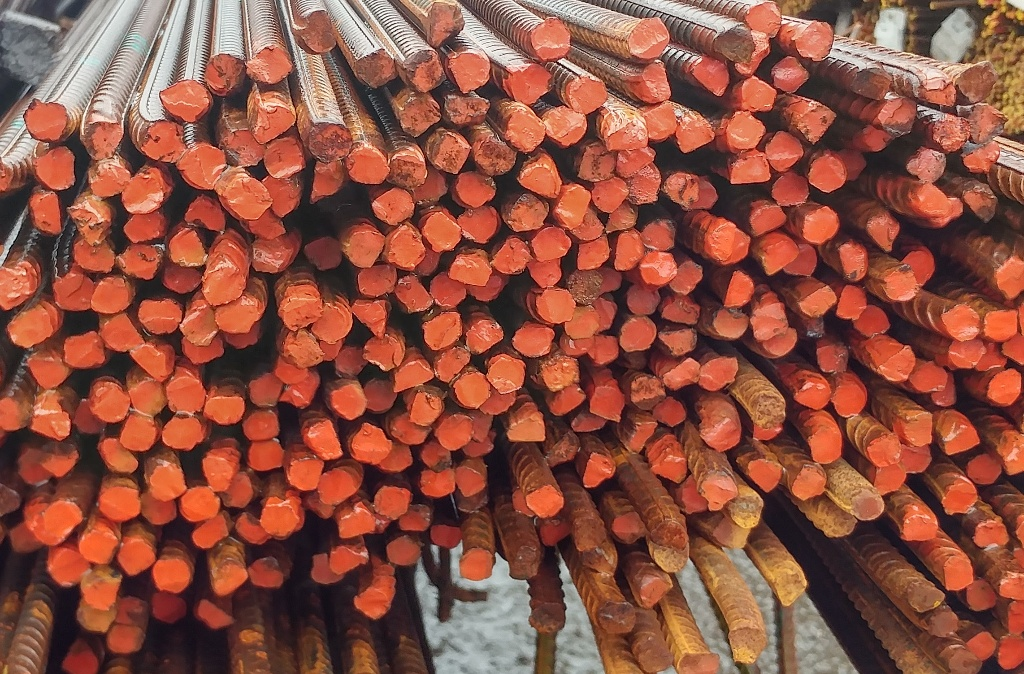dipstick: (692, 396, 747, 451), (216, 168, 274, 220), (275, 279, 324, 330), (952, 56, 1002, 105), (502, 63, 557, 107), (652, 518, 694, 575), (67, 196, 119, 242), (800, 443, 903, 466), (644, 434, 690, 484), (445, 46, 491, 96), (5, 303, 56, 348), (704, 220, 752, 267), (29, 144, 79, 189), (177, 145, 227, 190), (294, 9, 340, 57), (157, 81, 212, 121), (244, 44, 297, 85), (934, 410, 981, 456), (501, 109, 548, 155), (395, 93, 444, 137), (351, 47, 400, 91), (300, 418, 350, 461), (627, 61, 678, 103), (424, 131, 472, 175), (30, 392, 73, 441), (770, 559, 813, 608), (528, 16, 573, 62), (81, 115, 126, 160), (52, 266, 96, 312), (216, 291, 262, 335), (516, 155, 562, 199), (724, 620, 767, 667), (503, 191, 551, 233), (310, 157, 351, 206), (114, 241, 163, 282), (470, 136, 519, 177), (384, 222, 424, 272), (845, 61, 895, 101), (200, 53, 245, 97), (307, 118, 352, 162), (754, 232, 798, 277), (794, 100, 838, 145), (626, 16, 669, 62), (599, 109, 651, 147), (965, 104, 1014, 144), (161, 413, 211, 452), (96, 313, 147, 351), (144, 118, 187, 163), (126, 374, 171, 417), (87, 379, 132, 422), (259, 496, 304, 539), (404, 50, 447, 95), (85, 156, 131, 198), (342, 225, 384, 271), (97, 480, 143, 522), (542, 105, 589, 146), (24, 98, 68, 141), (805, 150, 848, 194), (203, 261, 245, 306), (348, 425, 393, 467), (369, 187, 420, 224), (440, 91, 491, 128), (121, 173, 167, 214), (675, 107, 716, 153), (261, 171, 301, 218), (129, 343, 176, 383), (180, 194, 228, 233), (24, 353, 76, 389), (36, 438, 84, 477), (145, 457, 188, 500), (573, 141, 618, 182), (791, 21, 836, 62), (877, 97, 922, 138), (252, 101, 298, 141), (222, 129, 268, 169), (565, 73, 611, 113), (721, 110, 767, 150), (349, 145, 391, 188), (325, 379, 368, 421), (424, 2, 466, 45), (792, 369, 833, 413), (762, 129, 806, 170), (180, 303, 220, 348), (696, 468, 741, 508), (855, 208, 900, 248), (553, 185, 593, 230), (446, 247, 492, 286), (62, 330, 109, 368), (722, 150, 773, 185), (118, 211, 172, 244), (420, 210, 462, 252), (769, 55, 811, 97), (264, 138, 307, 179), (804, 422, 845, 465), (870, 344, 913, 385), (348, 299, 392, 339), (527, 601, 572, 640), (69, 236, 115, 274), (361, 335, 407, 373), (897, 576, 944, 613), (54, 638, 102, 674), (798, 203, 840, 244), (711, 22, 753, 63), (138, 297, 182, 336), (150, 557, 194, 596), (448, 368, 487, 412), (750, 296, 789, 340), (450, 172, 499, 207), (279, 330, 324, 368), (96, 436, 141, 474), (669, 475, 714, 513), (318, 465, 364, 502), (511, 320, 557, 357), (167, 226, 208, 267), (1, 262, 36, 310), (311, 303, 351, 345), (617, 314, 659, 354), (393, 274, 435, 314), (91, 275, 134, 314), (983, 366, 1022, 409), (24, 192, 62, 236), (420, 312, 465, 349), (456, 207, 501, 244), (903, 184, 955, 216), (46, 548, 92, 584), (736, 30, 772, 76), (656, 323, 703, 358), (279, 369, 319, 410), (373, 480, 413, 521), (940, 302, 981, 342), (490, 236, 532, 275), (739, 1, 782, 39), (69, 598, 117, 632), (742, 454, 782, 494), (79, 523, 118, 564), (80, 570, 121, 609), (879, 264, 920, 303), (834, 234, 868, 281), (790, 462, 828, 504), (637, 215, 679, 253), (304, 230, 341, 273), (248, 550, 288, 589), (387, 150, 427, 189), (410, 166, 449, 206), (931, 112, 970, 152), (250, 235, 291, 273), (747, 196, 788, 234), (211, 557, 248, 599), (700, 356, 742, 393), (960, 181, 997, 223), (181, 336, 231, 367), (612, 229, 648, 272), (692, 55, 728, 98), (710, 306, 754, 341), (769, 172, 813, 207), (487, 355, 526, 394), (167, 377, 205, 417), (661, 356, 701, 394), (900, 507, 940, 545), (940, 476, 980, 514), (565, 267, 605, 305), (660, 169, 700, 207), (737, 75, 777, 113), (195, 598, 241, 631), (327, 542, 373, 575), (139, 490, 180, 527), (352, 585, 394, 621), (903, 247, 938, 290), (960, 141, 1003, 176), (756, 328, 800, 362), (189, 515, 234, 548), (120, 415, 158, 454), (221, 471, 259, 510), (620, 414, 658, 453), (833, 378, 870, 418), (940, 553, 977, 593), (534, 287, 574, 324), (908, 146, 948, 183), (16, 447, 52, 488), (523, 483, 564, 519), (354, 265, 400, 297), (162, 259, 204, 294), (966, 452, 1008, 487), (795, 282, 837, 317), (539, 355, 582, 389), (532, 227, 571, 264), (336, 503, 376, 539), (387, 412, 432, 444), (582, 450, 618, 490), (634, 636, 674, 672), (847, 486, 887, 522), (428, 272, 468, 308), (623, 167, 663, 203), (628, 374, 669, 409), (907, 357, 948, 392), (676, 640, 718, 674), (392, 360, 435, 393), (915, 75, 958, 108), (241, 409, 285, 441), (244, 440, 288, 472), (21, 505, 58, 543), (117, 536, 154, 574), (248, 370, 284, 409), (71, 396, 107, 435), (813, 337, 852, 373), (633, 571, 673, 606), (749, 388, 784, 428), (659, 293, 704, 324), (306, 552, 347, 586), (285, 458, 326, 492), (598, 601, 639, 635), (711, 515, 752, 549), (247, 209, 290, 241), (944, 339, 987, 371), (590, 386, 627, 423), (898, 410, 935, 447), (201, 454, 237, 492), (466, 317, 505, 352), (382, 534, 426, 565), (644, 102, 678, 142), (722, 268, 755, 309), (994, 253, 1024, 298), (203, 393, 245, 425), (181, 486, 218, 522), (436, 413, 472, 450), (684, 174, 721, 210), (639, 251, 677, 286), (577, 234, 612, 272), (234, 511, 273, 545), (331, 347, 371, 380), (996, 428, 1024, 475), (222, 321, 267, 350), (938, 645, 983, 674), (589, 333, 625, 369), (564, 303, 600, 339), (379, 439, 416, 474), (410, 389, 445, 426), (510, 545, 545, 582), (652, 396, 689, 431), (615, 144, 652, 179), (544, 431, 582, 465), (591, 179, 629, 213), (549, 384, 588, 417), (854, 306, 894, 338), (106, 623, 148, 653), (148, 591, 190, 621), (506, 412, 548, 442), (611, 511, 645, 548), (782, 244, 819, 278), (432, 347, 470, 380), (835, 282, 868, 320), (44, 503, 85, 533), (362, 377, 397, 412), (964, 577, 998, 613), (466, 274, 508, 303), (869, 462, 908, 493), (572, 516, 607, 550), (669, 261, 704, 295), (416, 440, 454, 471), (417, 468, 456, 498), (455, 464, 488, 499), (969, 518, 1010, 546), (273, 354, 310, 385), (624, 283, 661, 314), (525, 259, 562, 290), (983, 310, 1017, 343), (836, 148, 870, 181), (975, 339, 1010, 371), (571, 208, 606, 240), (900, 443, 936, 474), (995, 632, 1024, 670), (460, 547, 494, 579), (1, 396, 32, 431), (395, 504, 433, 532), (964, 627, 997, 659), (539, 515, 574, 545), (606, 199, 638, 231), (556, 329, 591, 358), (479, 387, 516, 414), (929, 606, 960, 638), (303, 490, 336, 520), (860, 125, 898, 151), (933, 373, 961, 407), (430, 524, 464, 551), (467, 407, 494, 441), (1001, 597, 1024, 635), (573, 407, 609, 431), (594, 297, 618, 332), (997, 570, 1024, 601), (828, 516, 860, 542), (797, 315, 829, 341), (415, 245, 444, 272), (752, 421, 789, 442), (1001, 331, 1024, 364), (599, 265, 621, 297), (461, 438, 500, 455)
